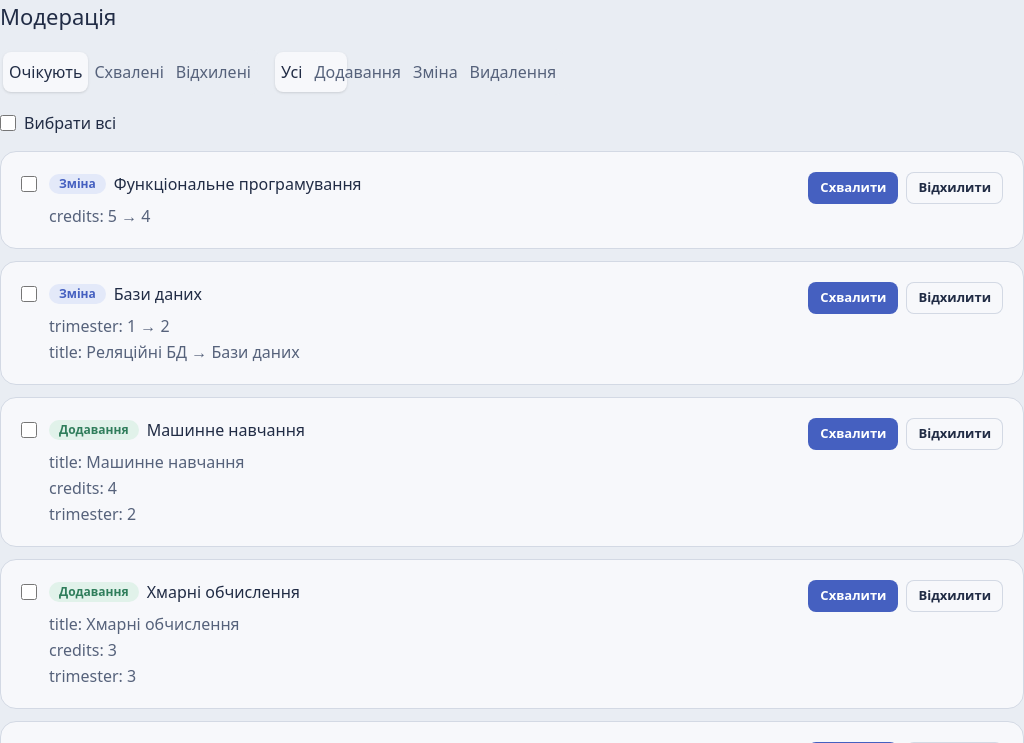
Test: ModerationPage › 409 на картці: «Запис уже розглянуто», картка зникає після оновлення
Check: the element named "Запис 501" is shown, box [0,151,1023,249]
Step 1. Click the button "Схвалити" in the row of "Функціональне програмування" → (853, 188), box [808,172,898,204]
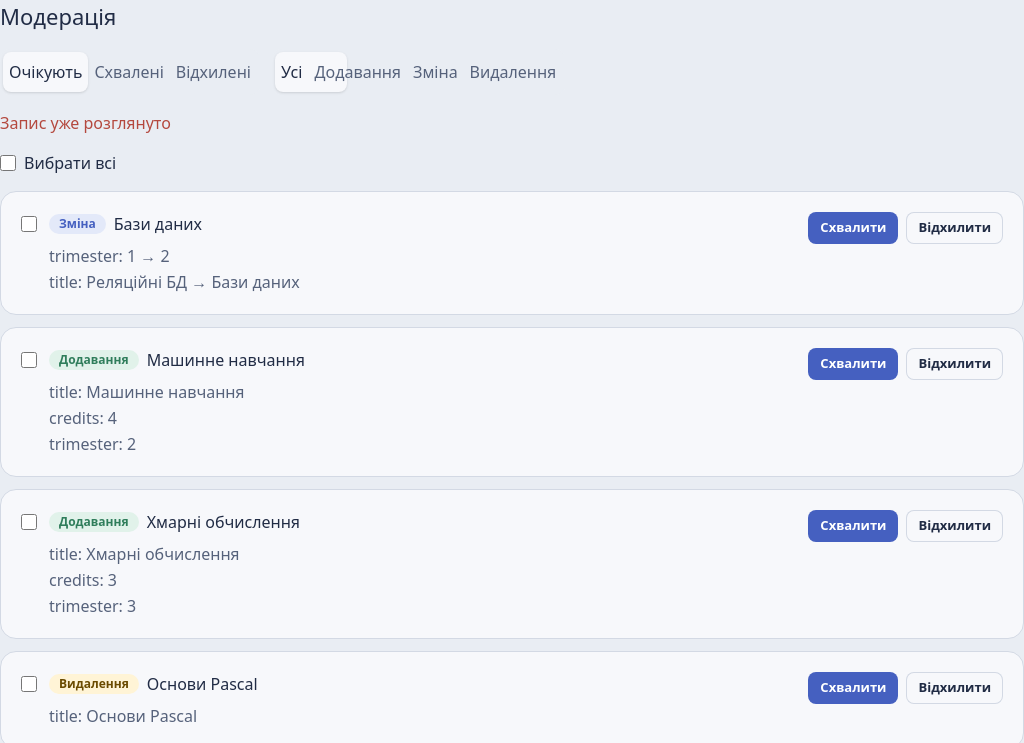
Check: the message reads "Запис уже розглянуто", box [0,112,171,134]
